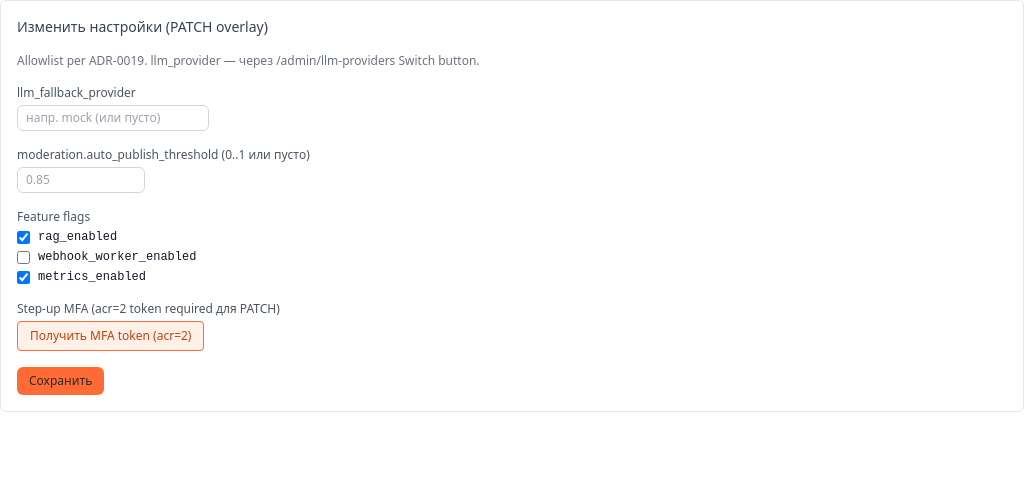
Test case: SystemConfigEditForm › rejects non-numeric threshold
In the field labelled "auto_publish_threshold": (81, 180) top-left (17, 167), bottom-right (145, 193), type "abc"
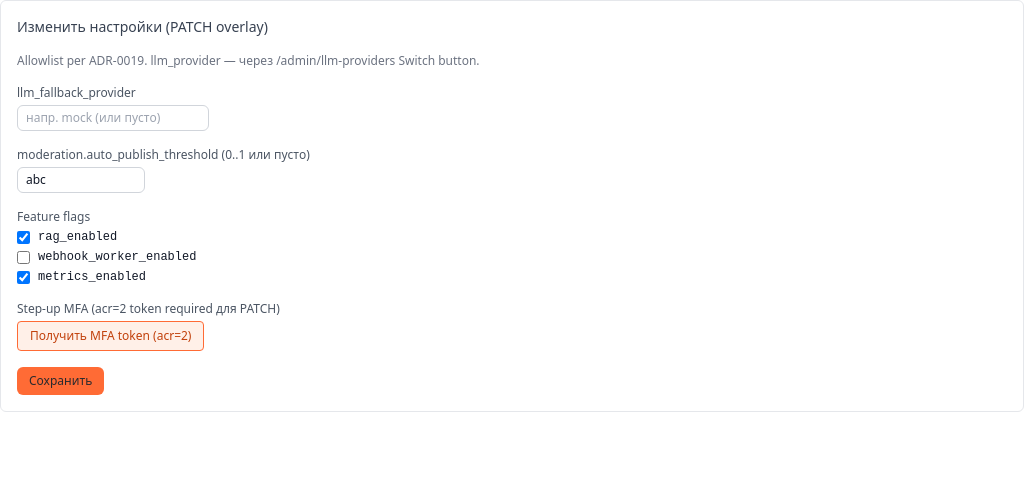
Click the button "Сохранить": (61, 381) top-left (17, 367), bottom-right (104, 395)
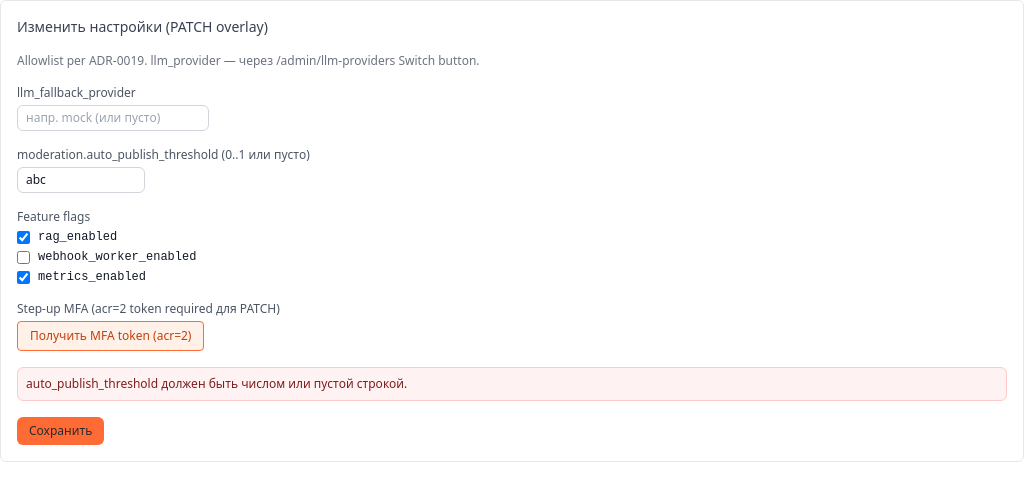
Now the message shows "числом", box top-left (26, 375), bottom-right (407, 392)
